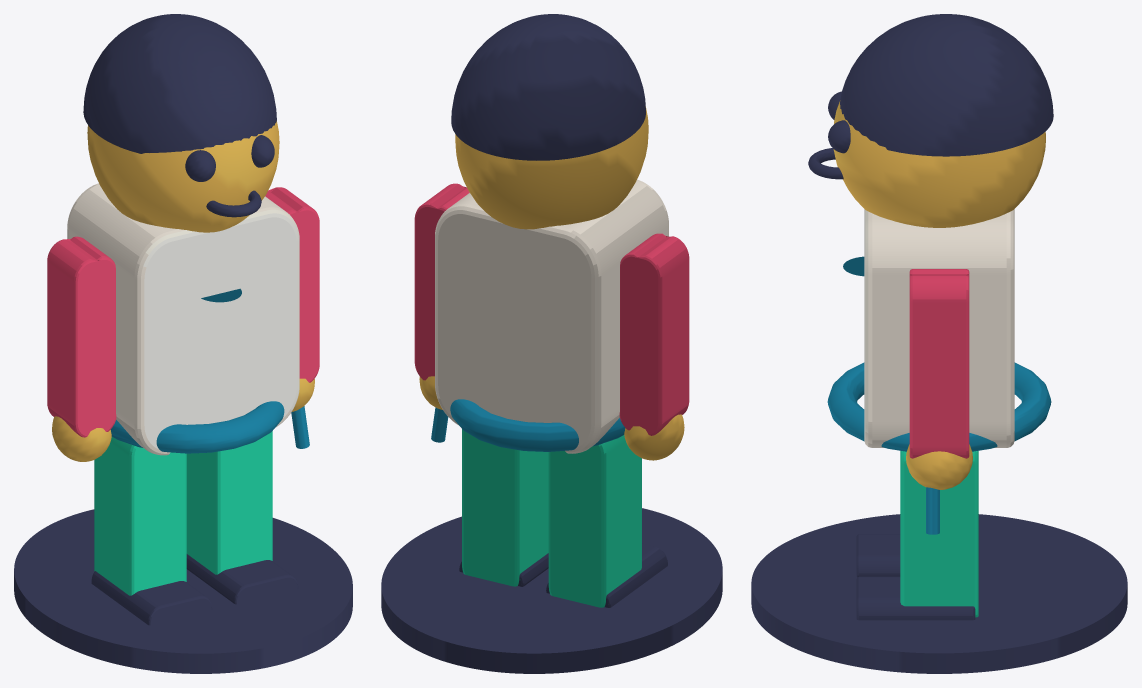
The model's file is 1321_中国古代寓言_扁鹊.glb.
3 views of the same model, side by side, from view 1: azimuth 30°, elevation 25°; view 2: azimuth 150°, elevation 25°; view 3: azimuth 270°, elevation 25° (orthographic).
Visible parts, largest first — view 1: card_1321; view 2: card_1321; view 3: card_1321.
Part boxes in pixels (x1,y1,x2,y2): card_1321: (14,14,352,673); card_1321: (381,14,722,673); card_1321: (751,14,1127,673).
Size of the model in its own units: 0.5193 by 1 by 0.5862.
